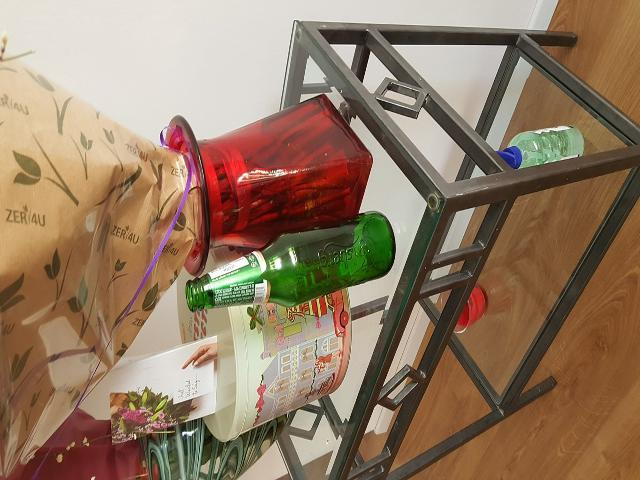beer: (184, 212, 396, 309)
